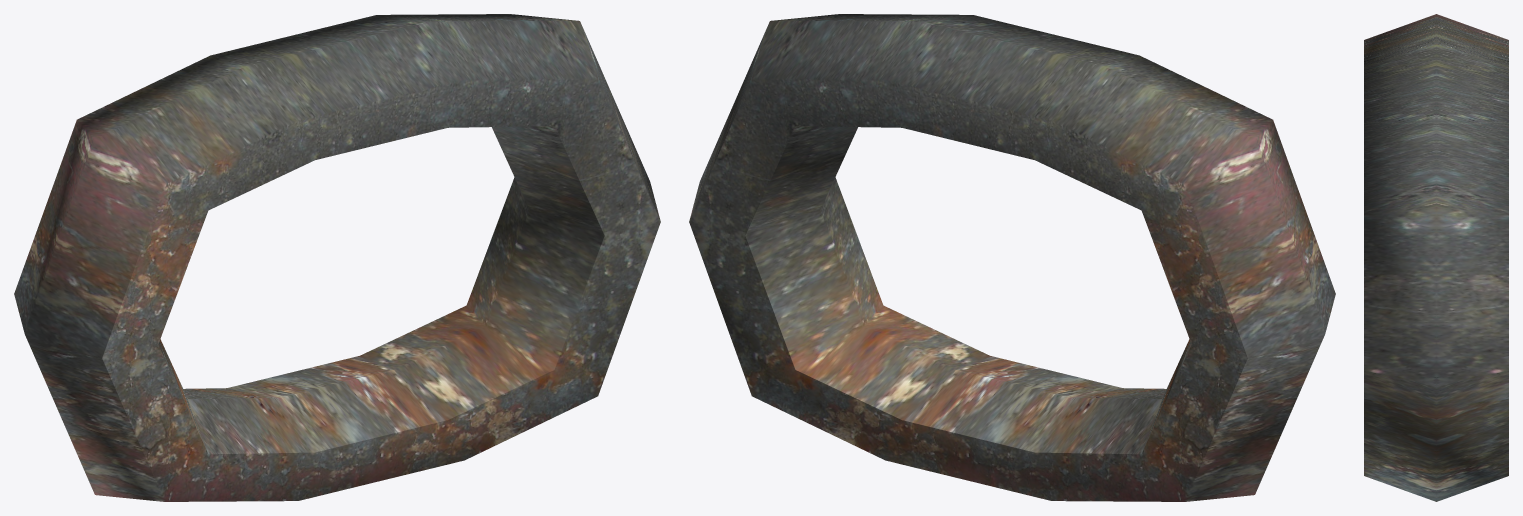
The model's file is chainpiece.fbx.
3 views of the same model, side by side, from view 1: azimuth 30°, elevation 25°; view 2: azimuth 150°, elevation 25°; view 3: azimuth 270°, elevation 25° (orthographic). The views are drawn at different scales.
Parts seen in each view (by area): view 1: Cube.005; view 2: Cube.005; view 3: Cube.005.
Part boxes in pixels (x1,y1,x2,y2): Cube.005: (14, 14, 660, 501); Cube.005: (689, 14, 1335, 501); Cube.005: (1364, 14, 1508, 501).
Size of the model in its own units: 19.13 by 12.47 by 4.66.
